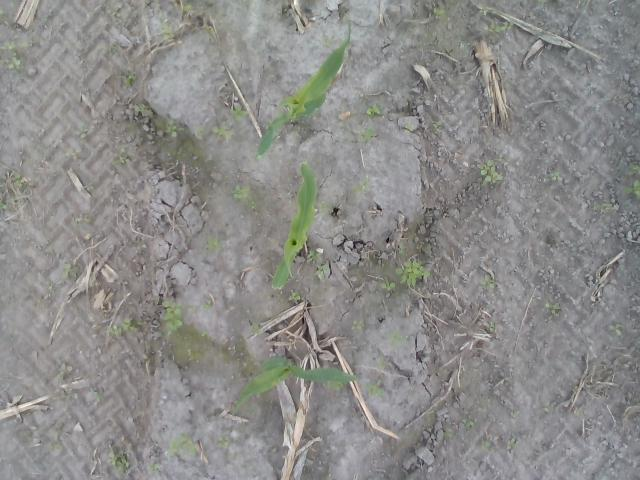Maize: (254, 16, 350, 156), (234, 354, 364, 407), (272, 160, 318, 290)
Weeds: (394, 257, 432, 287), (166, 432, 198, 457), (160, 302, 183, 336), (480, 158, 506, 186), (230, 183, 256, 208), (108, 318, 140, 338), (106, 448, 130, 474), (1, 51, 26, 74), (110, 144, 130, 168), (305, 36, 334, 52), (159, 14, 176, 40), (164, 120, 185, 138), (483, 20, 512, 33), (0, 39, 34, 50), (211, 127, 234, 143), (592, 199, 620, 212), (365, 380, 385, 397), (623, 180, 640, 200), (228, 106, 248, 123), (351, 174, 369, 192), (480, 272, 498, 289), (63, 264, 80, 281), (55, 363, 72, 380), (544, 302, 560, 320), (359, 126, 377, 142), (170, 0, 192, 13), (121, 71, 137, 88), (206, 236, 223, 252), (392, 330, 409, 345), (543, 170, 561, 184), (367, 104, 383, 118), (379, 279, 396, 292), (622, 163, 640, 175), (78, 120, 88, 140), (314, 265, 328, 279), (608, 324, 624, 336), (326, 382, 344, 392), (14, 174, 26, 189), (288, 291, 302, 303), (216, 436, 230, 448), (318, 200, 336, 209), (64, 148, 80, 158), (249, 322, 261, 335), (506, 439, 520, 450), (432, 7, 449, 16), (462, 418, 474, 430), (306, 250, 320, 260), (48, 440, 62, 450), (351, 320, 363, 331), (193, 127, 204, 139), (149, 463, 161, 474), (481, 438, 494, 448), (111, 7, 122, 18), (376, 358, 386, 370), (82, 182, 94, 192), (208, 25, 215, 41), (479, 6, 490, 16), (398, 241, 405, 256), (94, 391, 104, 401), (0, 8, 8, 20), (488, 320, 496, 332), (70, 215, 80, 224), (136, 103, 146, 112), (572, 407, 582, 416), (543, 401, 550, 413), (431, 120, 438, 131), (0, 198, 7, 209), (536, 0, 544, 9), (440, 431, 449, 439), (110, 44, 117, 54), (426, 410, 434, 418), (403, 122, 412, 129), (630, 400, 640, 406), (200, 330, 208, 337), (48, 280, 54, 289), (478, 80, 484, 88), (202, 304, 210, 310)
